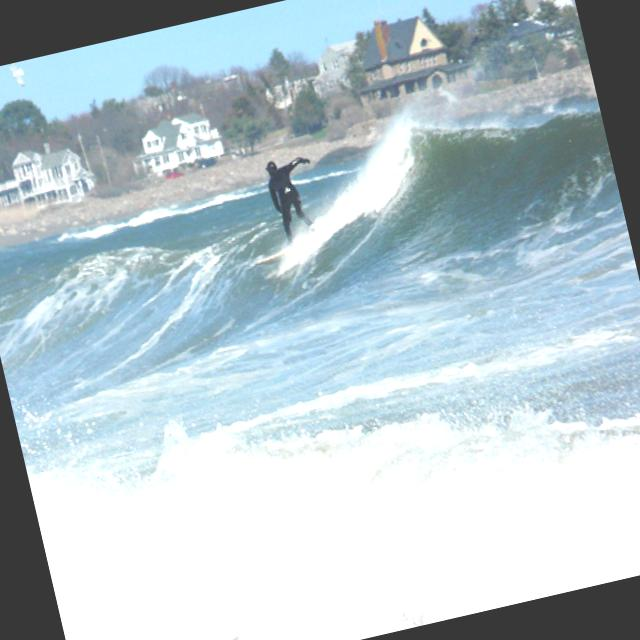Vehicle: (193, 156, 218, 172), (165, 168, 184, 180)
